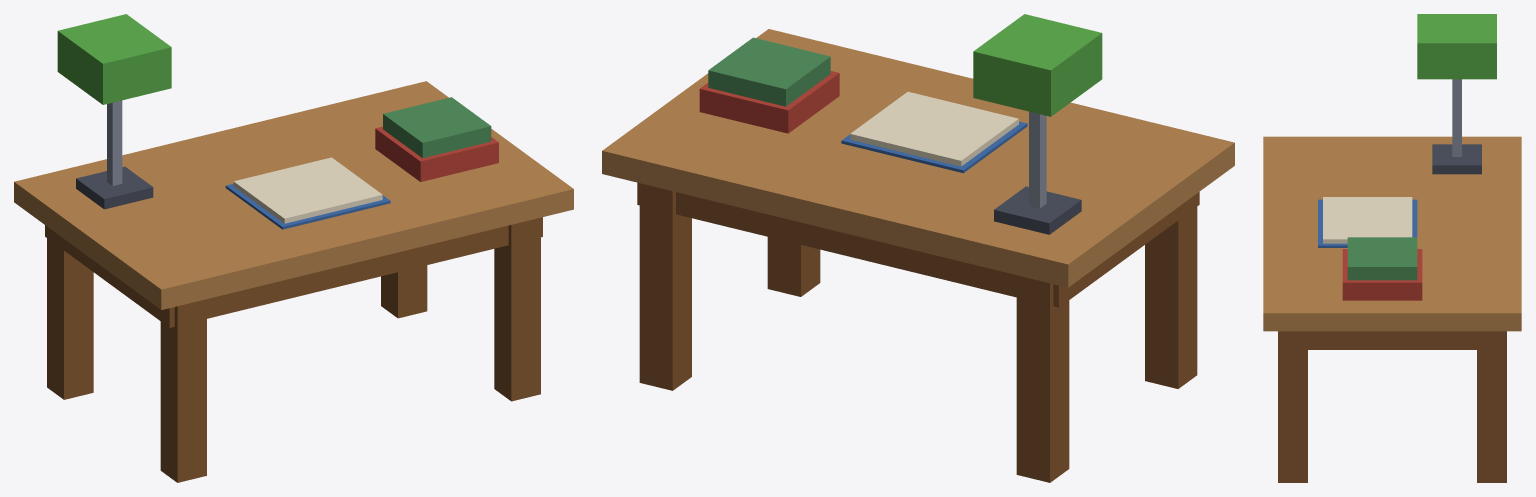
Rendered from reading-table.glb.
3 views of the same model, side by side, from view 1: azimuth 30°, elevation 25°; view 2: azimuth 150°, elevation 25°; view 3: azimuth 270°, elevation 25° (orthographic). The views are drawn at different scales.
Visible parts, largest first — view 1: reading-table; view 2: reading-table; view 3: reading-table.
Part boxes in pixels (bbox=[...]): reading-table: bbox=[14, 14, 573, 482]; reading-table: bbox=[602, 14, 1234, 482]; reading-table: bbox=[1263, 14, 1521, 482].
Size of the model in its own units: 0.84 by 0.7 by 0.52.
Materials: 1 (1 with a texture image).
